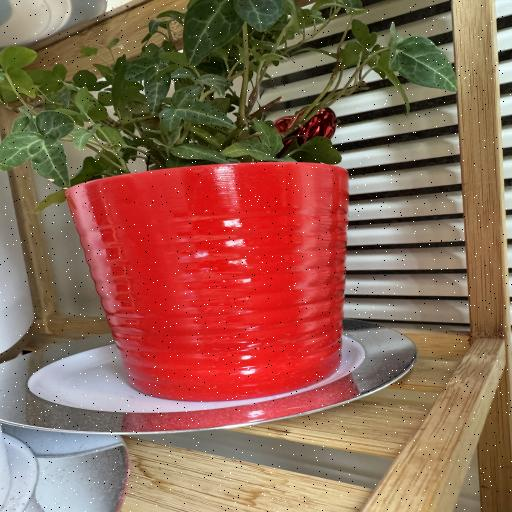Plant Pot: (69, 153, 354, 402)
